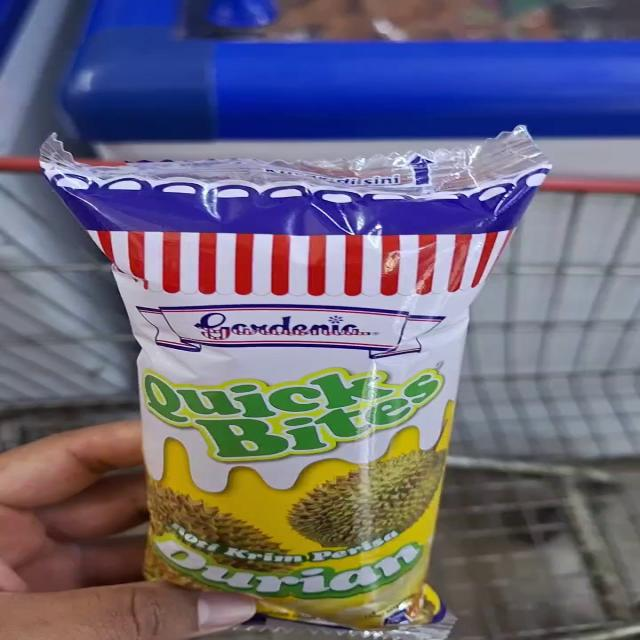Roti: (80, 134, 520, 478), (102, 373, 489, 640)
